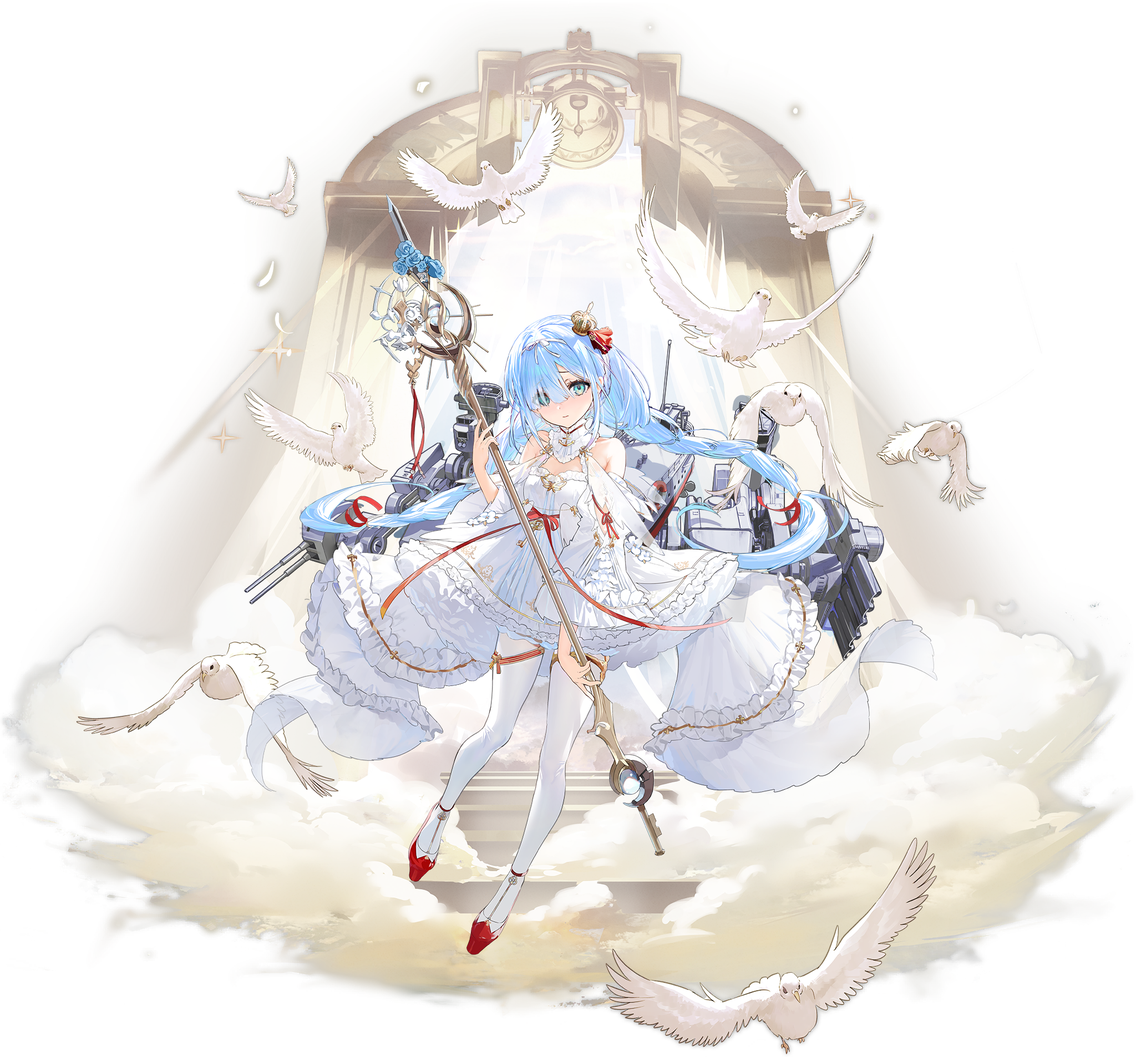person: (279, 276, 946, 1001)
